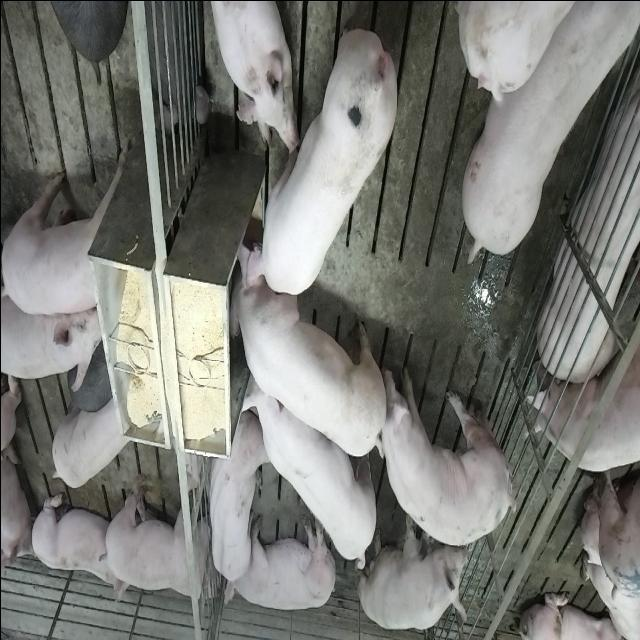Feeding: (240, 23, 398, 300), (220, 258, 380, 466)
Lateral_lying: (539, 30, 640, 386), (222, 512, 337, 612)
Sitting: (355, 512, 467, 632)
Standing: (456, 2, 634, 266), (241, 354, 380, 572), (379, 356, 521, 548), (1, 140, 130, 315), (99, 467, 220, 603), (524, 339, 640, 473), (3, 282, 109, 390), (49, 392, 136, 488)
Sternal_lying: (204, 1, 294, 152), (203, 410, 265, 588), (29, 488, 119, 608)
